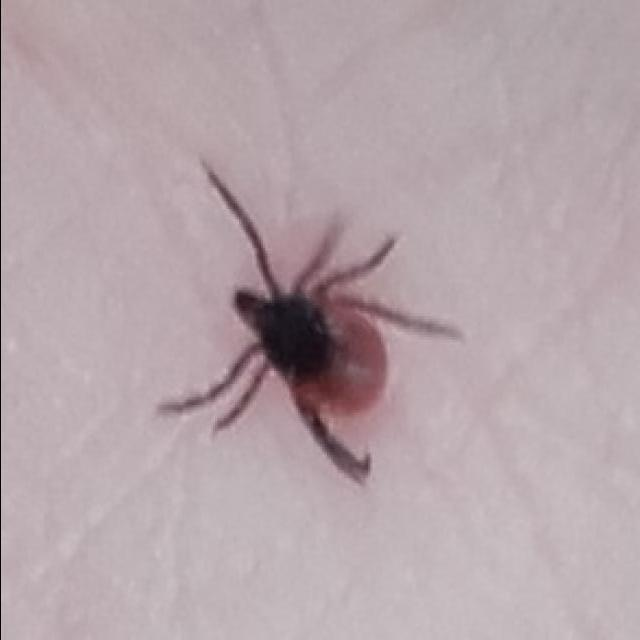Ixodes Ricinus-F: (155, 162, 461, 488)
